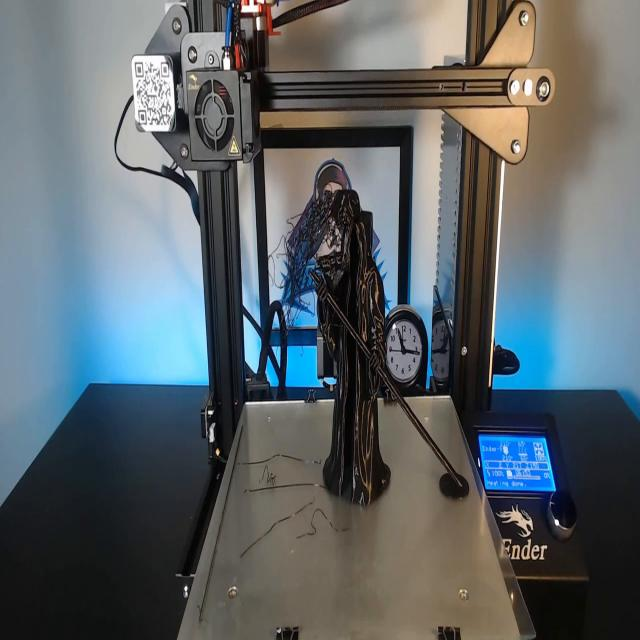spaghetti: (280, 165, 356, 311)
